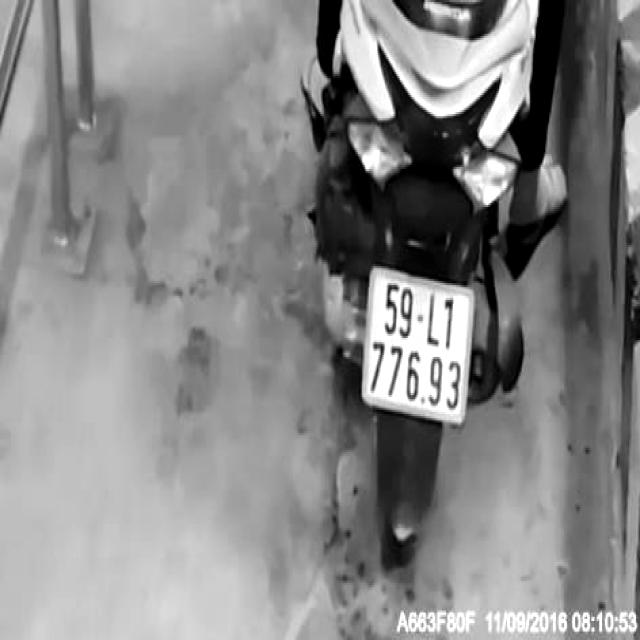license_plate: (366, 264, 473, 428)
